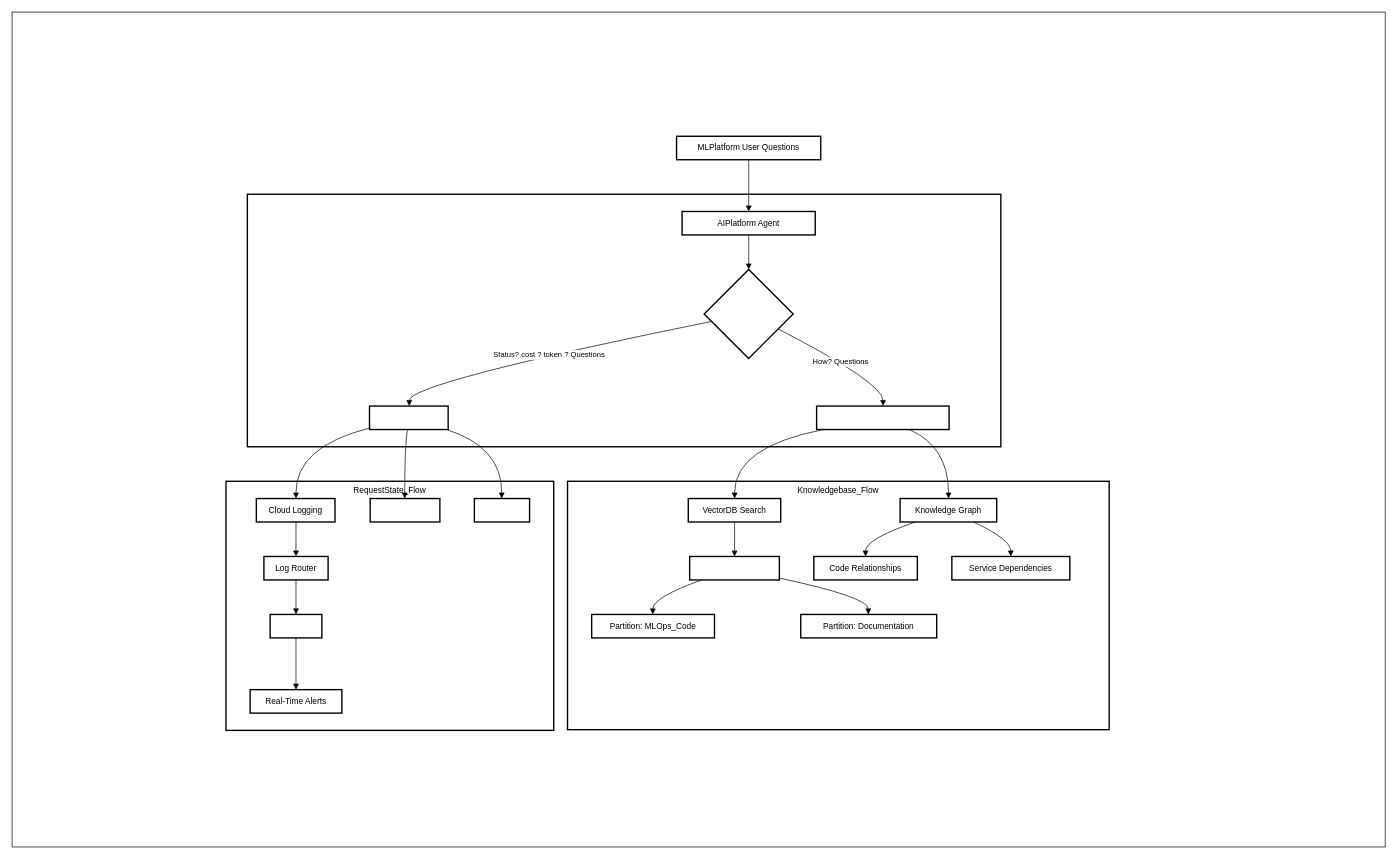
The diagram is 1397 pixels wide and 859 high, and some of its shapes have lost their labels. The shapes that lost their labels are listed below. From the top down, each one's centre as x and y in pixels, then its label:
At (748,313): "Query Type".
At (408,417): "Operations / Cost Agent".
At (882,417): "Knowledgebase Agent".
At (404,509): "Redis Cache".
At (501,509): "BigQuery".
At (734,567): "Milvus VectorDB".
At (295,625): "Pub/Sub".
